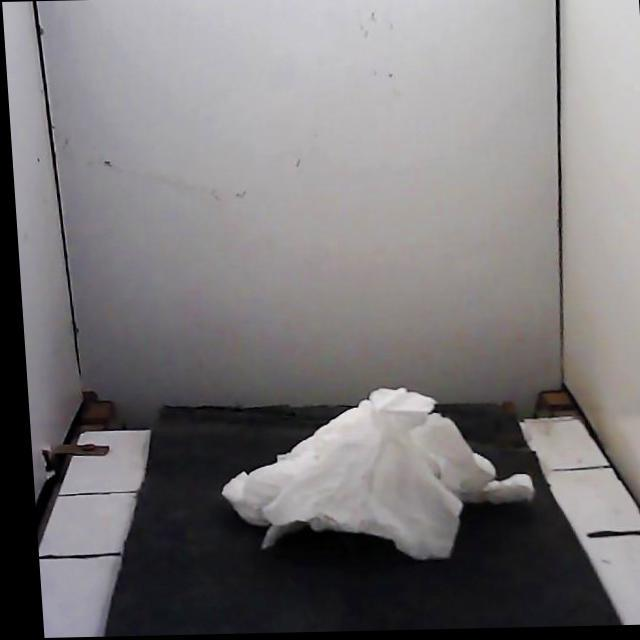papel: (222, 388, 534, 559)
